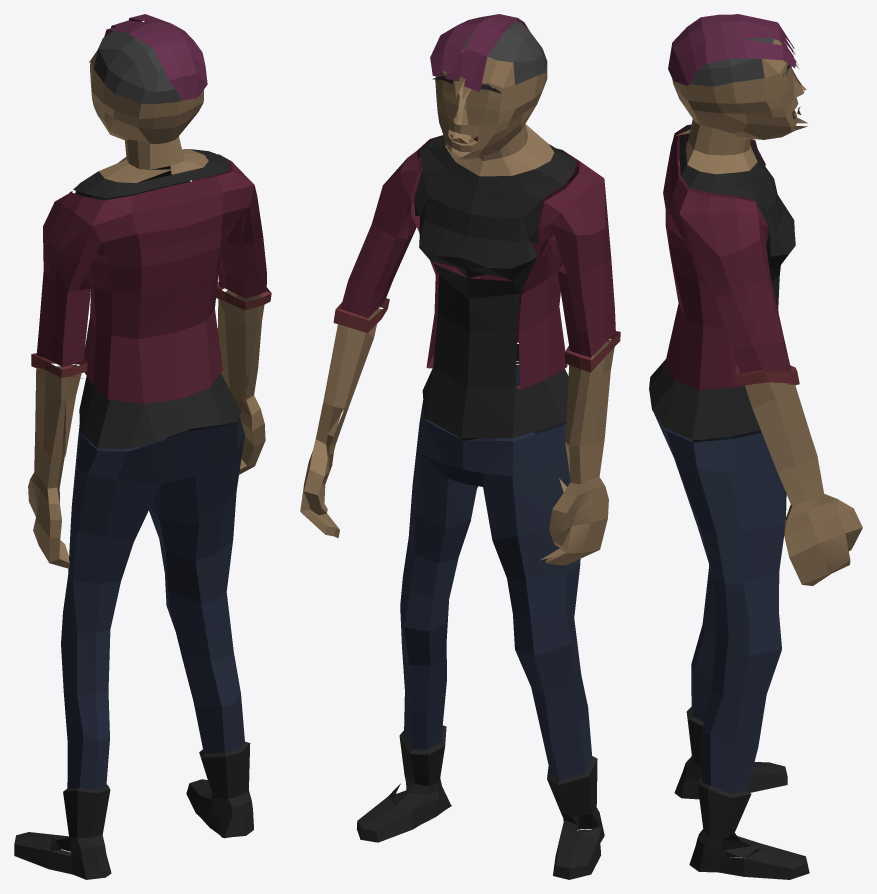
Rendered from person_8_idle.fbx.
3 renders of one model, left to right at view 1: azimuth 30°, elevation 25°; view 2: azimuth 150°, elevation 25°; view 3: azimuth 270°, elevation 25°, orthographic.
Visible parts, largest first — view 1: Female; view 2: Female; view 3: Female.
Part boxes in pixels (x1,y1,x2,y2): Female: (14,14,271,879); Female: (300,14,620,879); Female: (649,14,862,879).
Size of the model in its own units: 0.3382 by 1 by 0.2386.
